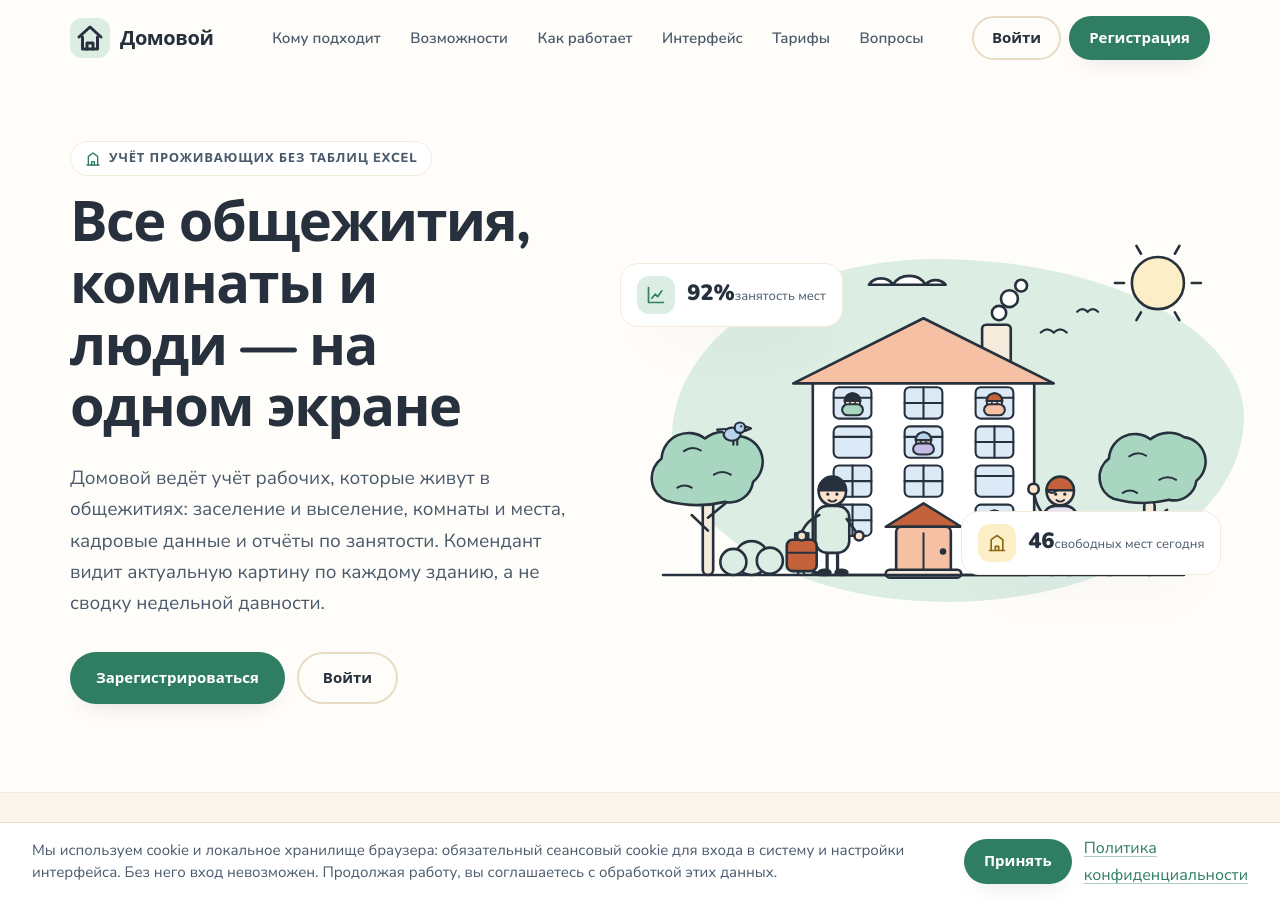
Test case: главная страница › открывает форму входа в модальном окне по кнопке в шапке
The image size is (1280, 900).
Click the button with test id "nav-login". click: point(1017, 38)
box: left=972, top=16, right=1061, bottom=60
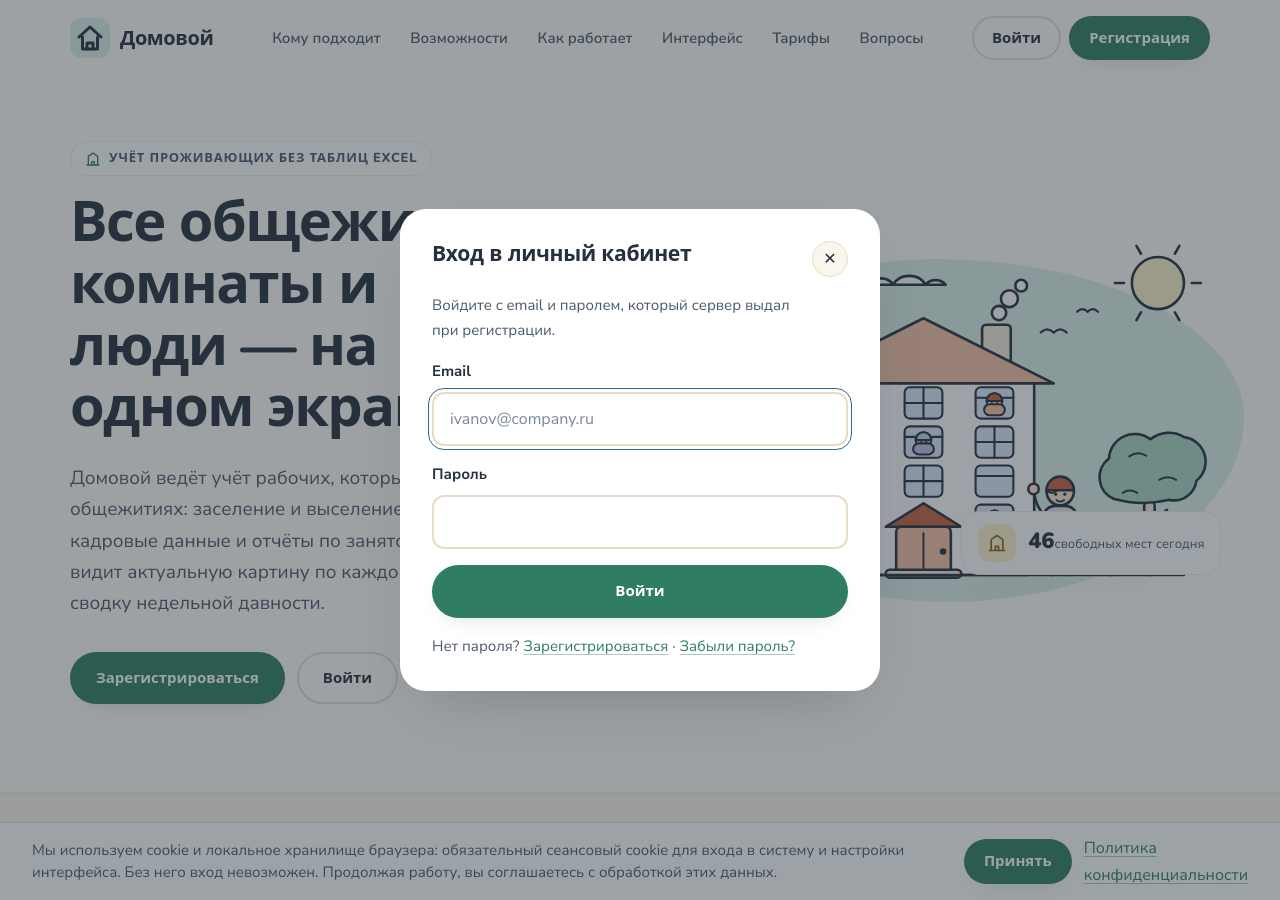
expect the heading with test id "auth-modal-title" reads "Вход в личный кабинет": met, box left=432, top=240, right=691, bottom=268
expect the field with test id "login-email" is shown: met, box left=432, top=392, right=848, bottom=446
expect the password field with test id "login-password" is shown: met, box left=432, top=495, right=848, bottom=549
